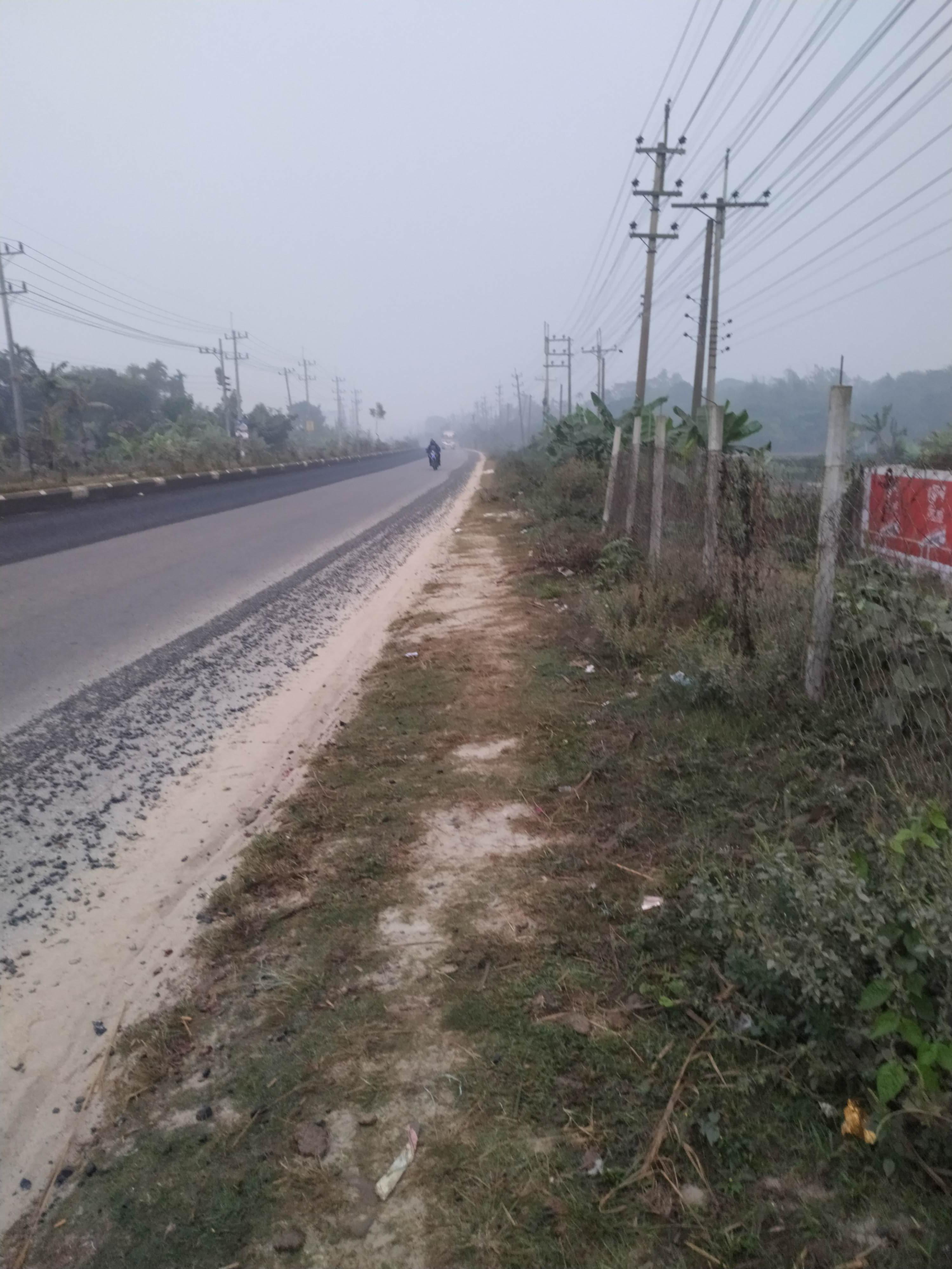Bike: (410, 422, 452, 482)
